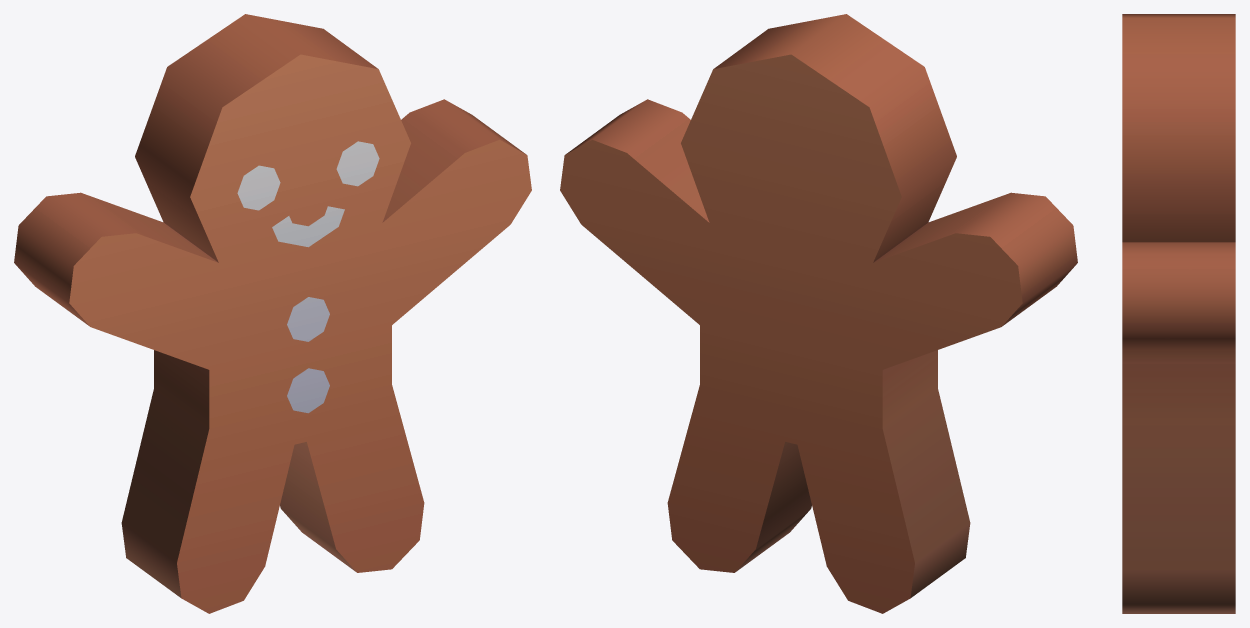
Rendered from k-holiday-gingerbread-man.glb.
3 views of the same model, side by side, from view 1: azimuth 30°, elevation 25°; view 2: azimuth 150°, elevation 25°; view 3: azimuth 270°, elevation 25° (orthographic). The views are drawn at different scales.
Visible parts, largest first — view 1: gingerbread-man; view 2: gingerbread-man; view 3: gingerbread-man.
Part boxes in pixels (x1,y1,x2,y2): gingerbread-man: (14,14,531,613); gingerbread-man: (560,14,1077,613); gingerbread-man: (1122,14,1235,613).
Bounding box in the file's own units: 0.3393 × 0.3764 × 0.0802.
Materials: 1 (1 with a texture image).
